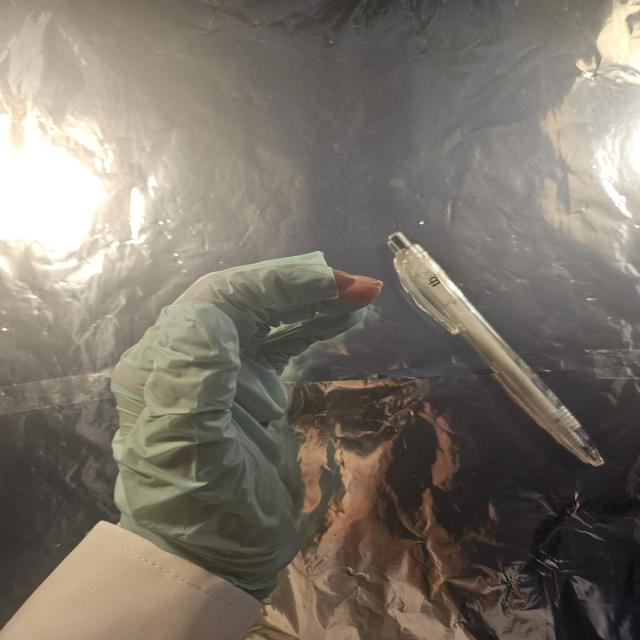gloves_damaged: (108, 247, 387, 602)
